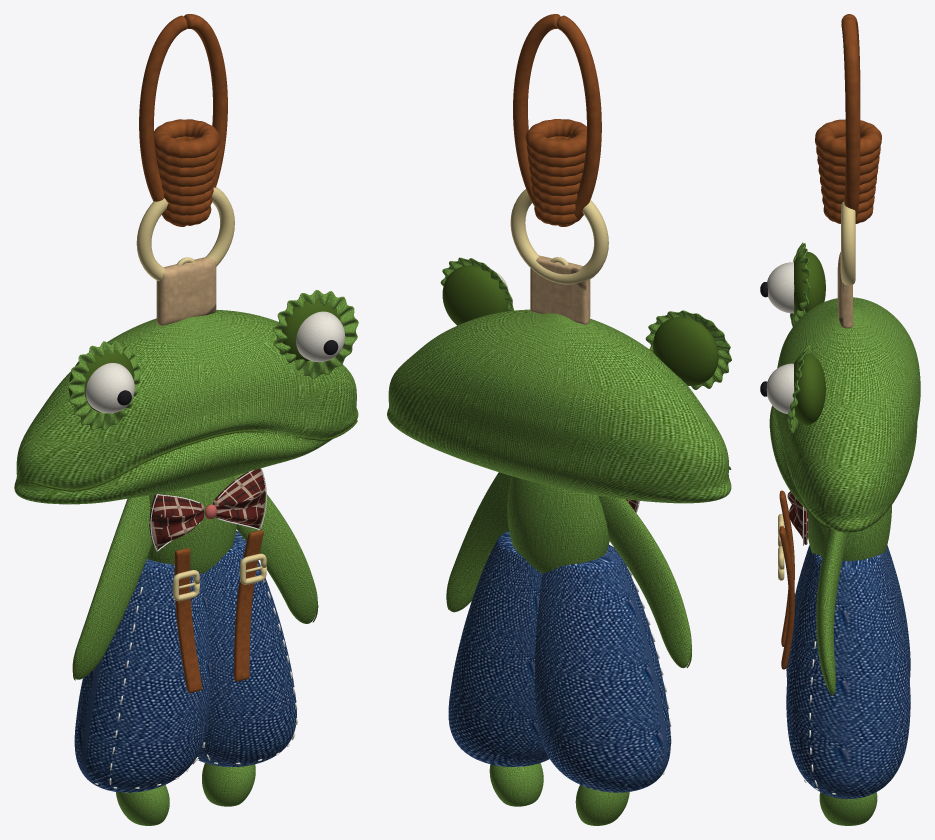
The model's file is frog-v1.glb.
The picture shows the model from 3 angles, left to right: view 1: azimuth 30°, elevation 25°; view 2: azimuth 150°, elevation 25°; view 3: azimuth 270°, elevation 25°; orthographic projection.
Parts seen in each view (by area): view 1: Head, Pants, Rope, Arm.L, BowTie, Suspenders, Arm.R, Body, LeatherTag, Eye.R, Eye.L, Eyelid.R (+6 smaller); view 2: Head, Pants, Rope, Body, Arm.L, Arm.R, Eye.L, MetalRing, Eye.R, LeatherTag, Foot.R, Foot.L (+2 smaller); view 3: Head, Pants, Rope, Arm.R, Eye.R, Eye.L, Body, Suspenders, Foot.R, MetalRing, LeatherTag, BowTie (+3 smaller).
Part boxes in pixels (x1=…): Head: x1=14, y1=310, x2=358, y2=504; Pants: x1=74, y1=531, x2=296, y2=792; Rope: x1=139, y1=14, x2=227, y2=226; Arm.L: x1=72, y1=495, x2=152, y2=680; BowTie: x1=149, y1=468, x2=265, y2=549; Suspenders: x1=174, y1=530, x2=263, y2=693; Arm.R: x1=234, y1=473, x2=318, y2=623; Body: x1=147, y1=476, x2=237, y2=573; LeatherTag: x1=156, y1=257, x2=216, y2=325; Eye.R: x1=281, y1=299, x2=345, y2=361; Eye.L: x1=68, y1=349, x2=134, y2=413; Eyelid.R: x1=273, y1=290, x2=358, y2=378; Head: x1=387, y1=309, x2=731, y2=503; Pants: x1=448, y1=531, x2=670, y2=792; Rope: x1=513, y1=14, x2=601, y2=226; Body: x1=507, y1=476, x2=609, y2=573; Arm.L: x1=598, y1=495, x2=691, y2=668; Arm.R: x1=446, y1=472, x2=511, y2=612; Eye.L: x1=653, y1=316, x2=718, y2=385; MetalRing: x1=510, y1=189, x2=608, y2=284; Eye.R: x1=442, y1=265, x2=508, y2=325; LeatherTag: x1=530, y1=255, x2=590, y2=324; Foot.R: x1=489, y1=763, x2=543, y2=806; Foot.L: x1=575, y1=785, x2=629, y2=825; Head: x1=769, y1=297, x2=920, y2=532; Pants: x1=786, y1=545, x2=910, y2=798; Rope: x1=815, y1=14, x2=881, y2=223; Arm.R: x1=816, y1=528, x2=848, y2=695; Eye.R: x1=760, y1=353, x2=825, y2=425; Eye.L: x1=760, y1=251, x2=825, y2=314; Body: x1=807, y1=505, x2=891, y2=560; Suspenders: x1=779, y1=490, x2=794, y2=669; Foot.R: x1=819, y1=792, x2=877, y2=825; MetalRing: x1=841, y1=201, x2=855, y2=285; LeatherTag: x1=837, y1=252, x2=852, y2=328; BowTie: x1=787, y1=491, x2=808, y2=544.
Size of the model in its own units: 0.8433 by 1.89 by 0.3507.
Materials: 11 (7 with a texture image).
